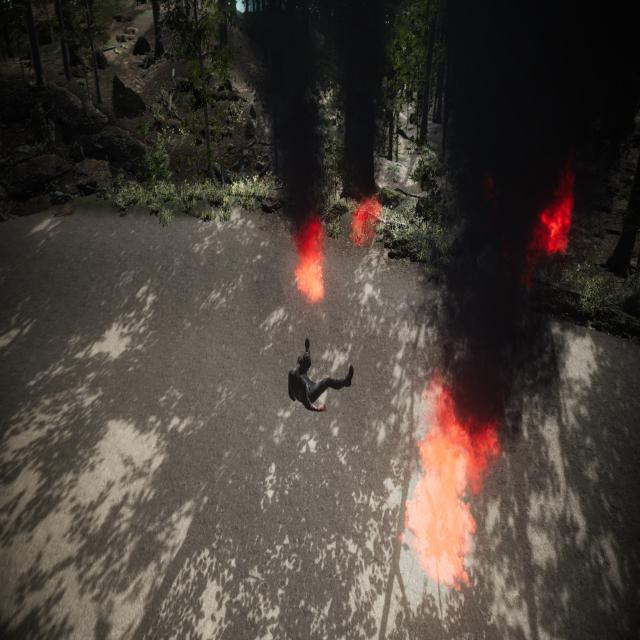Human: (281, 328, 363, 428)
